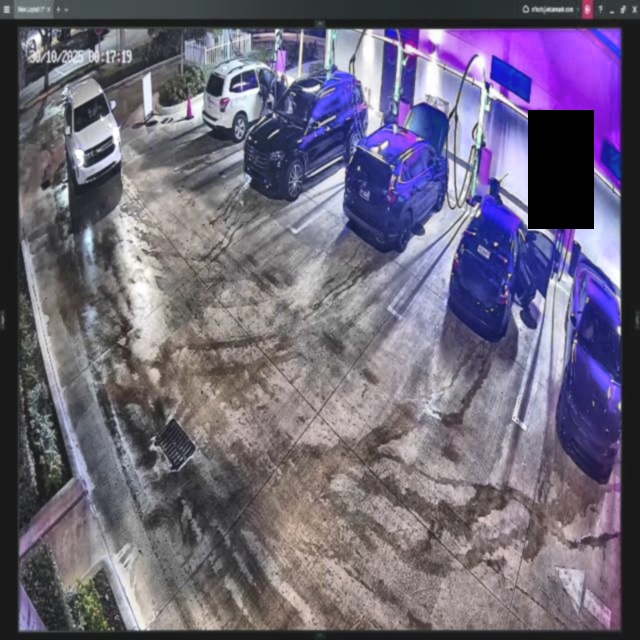Car: (343, 99, 450, 249), (449, 190, 556, 337), (245, 74, 364, 196)
